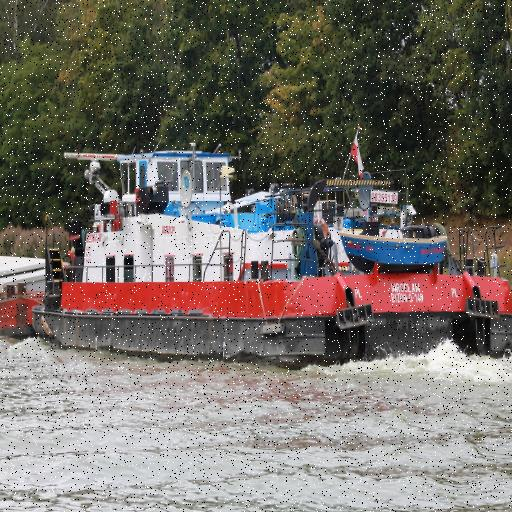tugboat: (30, 139, 512, 375)
